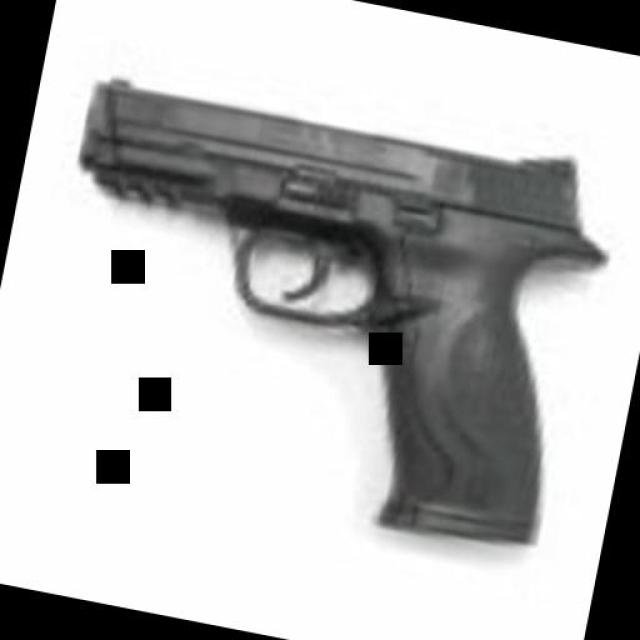gun: (17, 66, 628, 554)
